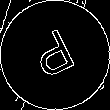P_SE: (27, 24, 83, 86)
